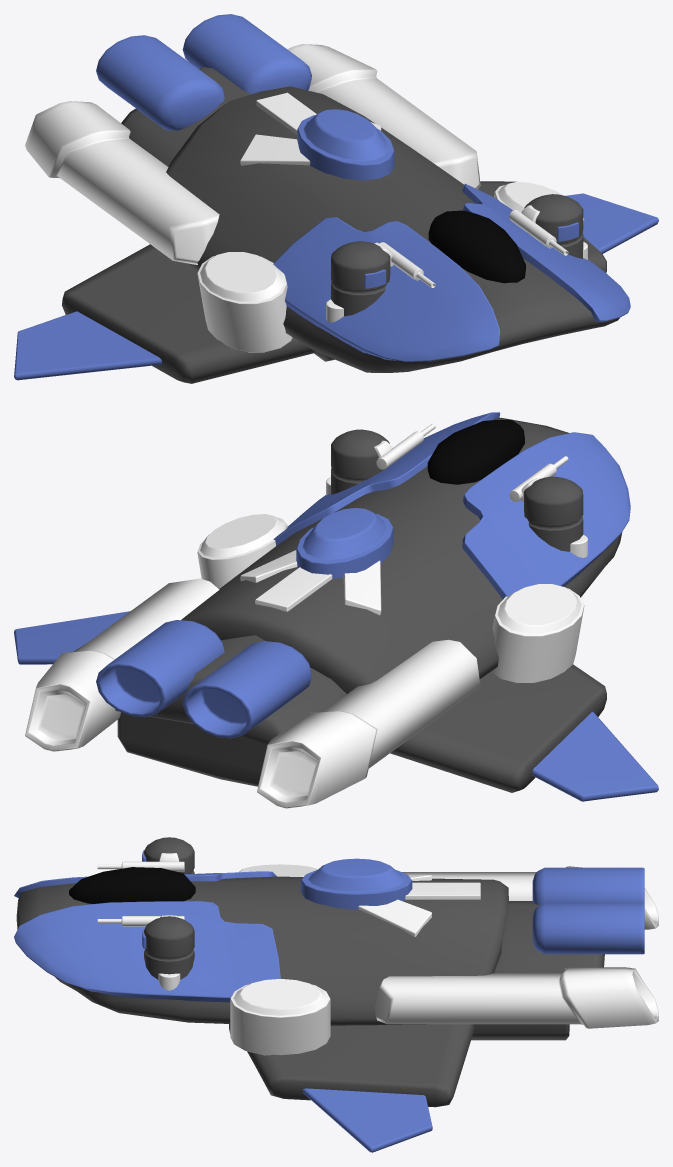
The model's file is support.glb.
3 renders of one model, top to bottom at view 1: azimuth 30°, elevation 25°; view 2: azimuth 150°, elevation 25°; view 3: azimuth 270°, elevation 25°, orthographic. The views are drawn at different scales.
Visible parts, largest first — view 1: player; view 2: player; view 3: player.
Part boxes in pixels (x1,y1,x2,y2): player: (14, 14, 658, 383); player: (14, 412, 658, 808); player: (14, 837, 658, 1152).
Bounding box in the file's own units: 1.42 × 0.3916 × 1.47.
1 material, 1 textured.
